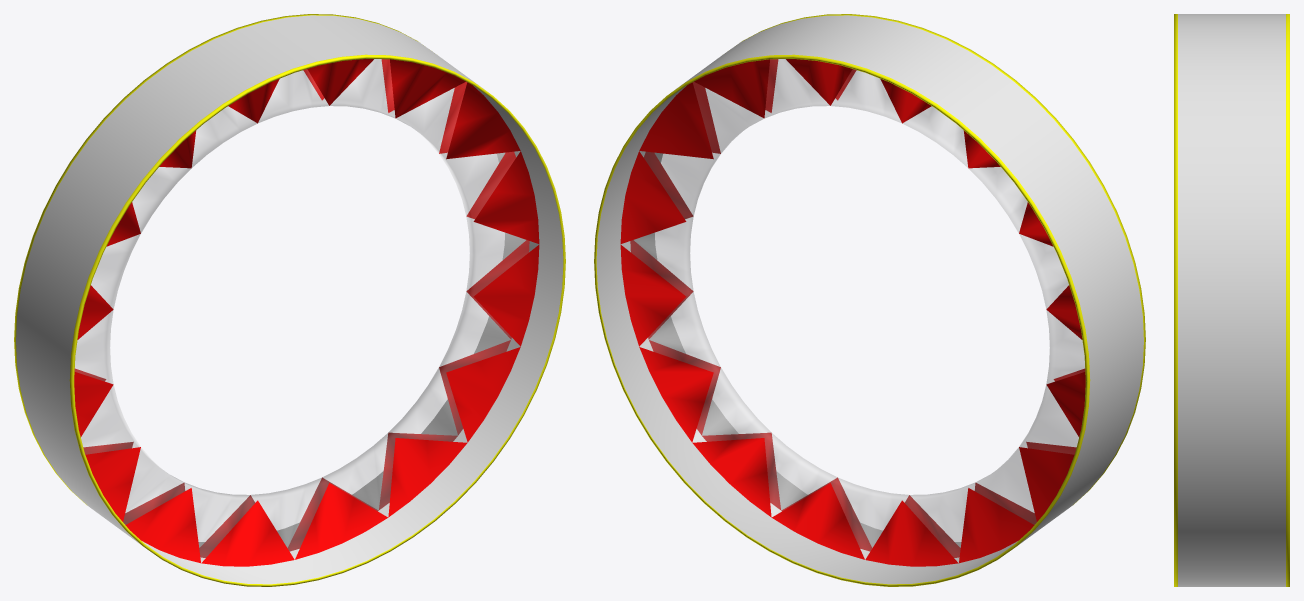
Rendered from FlickNote15.fbx.
The picture shows the model from 3 angles, left to right: view 1: azimuth 30°, elevation 25°; view 2: azimuth 150°, elevation 25°; view 3: azimuth 270°, elevation 25°; orthographic projection.
Parts seen in each view (by area): view 1: FlickNote15; view 2: FlickNote15; view 3: FlickNote15.
Boxes of the visible parts, left/top/right/bottom form: FlickNote15: left=14, top=14, right=565, bottom=586; FlickNote15: left=594, top=14, right=1145, bottom=586; FlickNote15: left=1174, top=14, right=1289, bottom=586.
Size of the model in its own units: 198 by 40 by 198.
